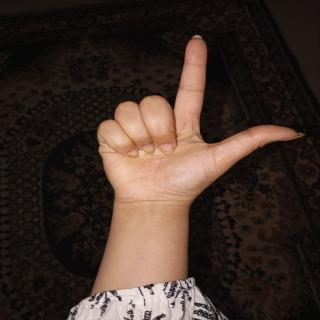LAAM: (92, 30, 306, 214)
